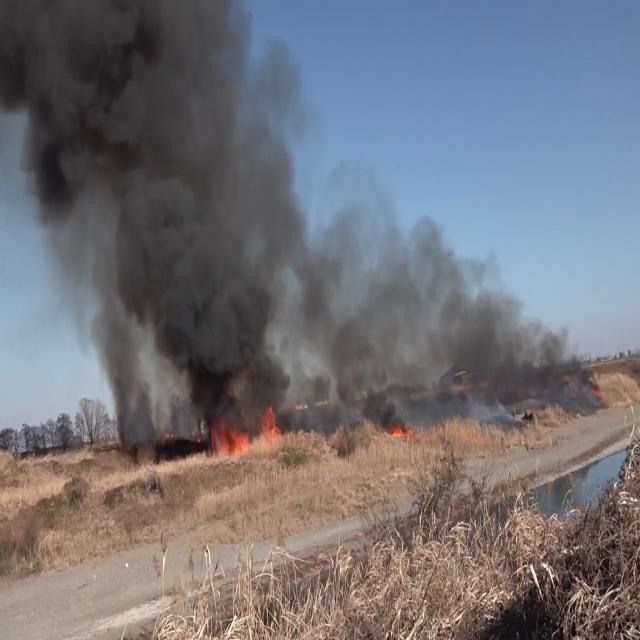Fire: (209, 400, 287, 460)
Smoke: (0, 0, 303, 433), (295, 184, 601, 418)
